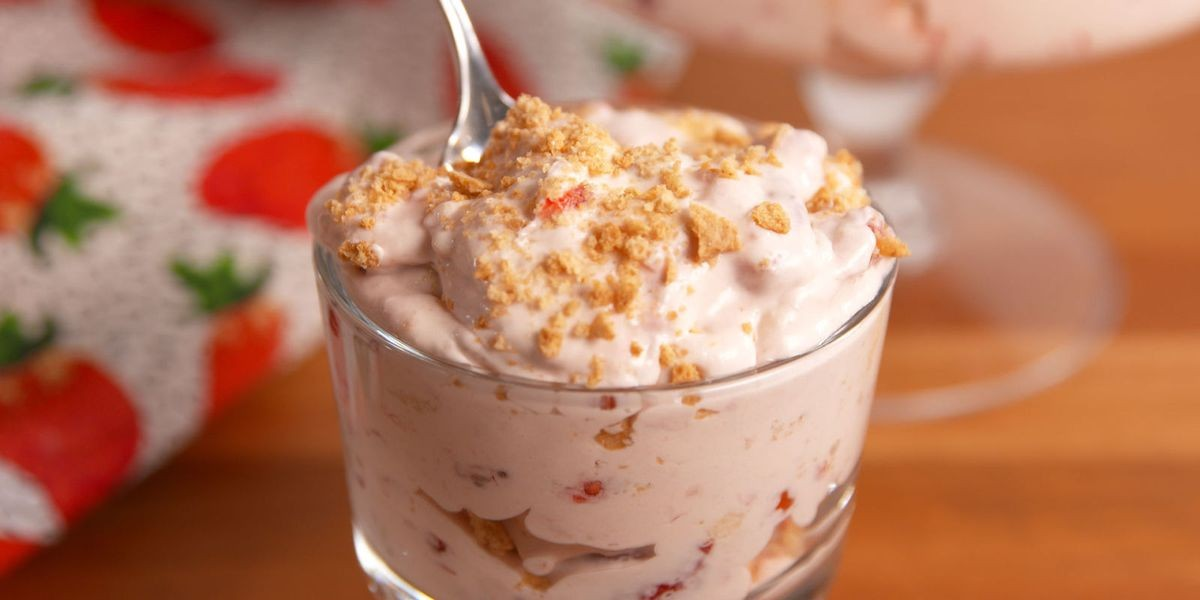cheese: (474, 160, 732, 274)
